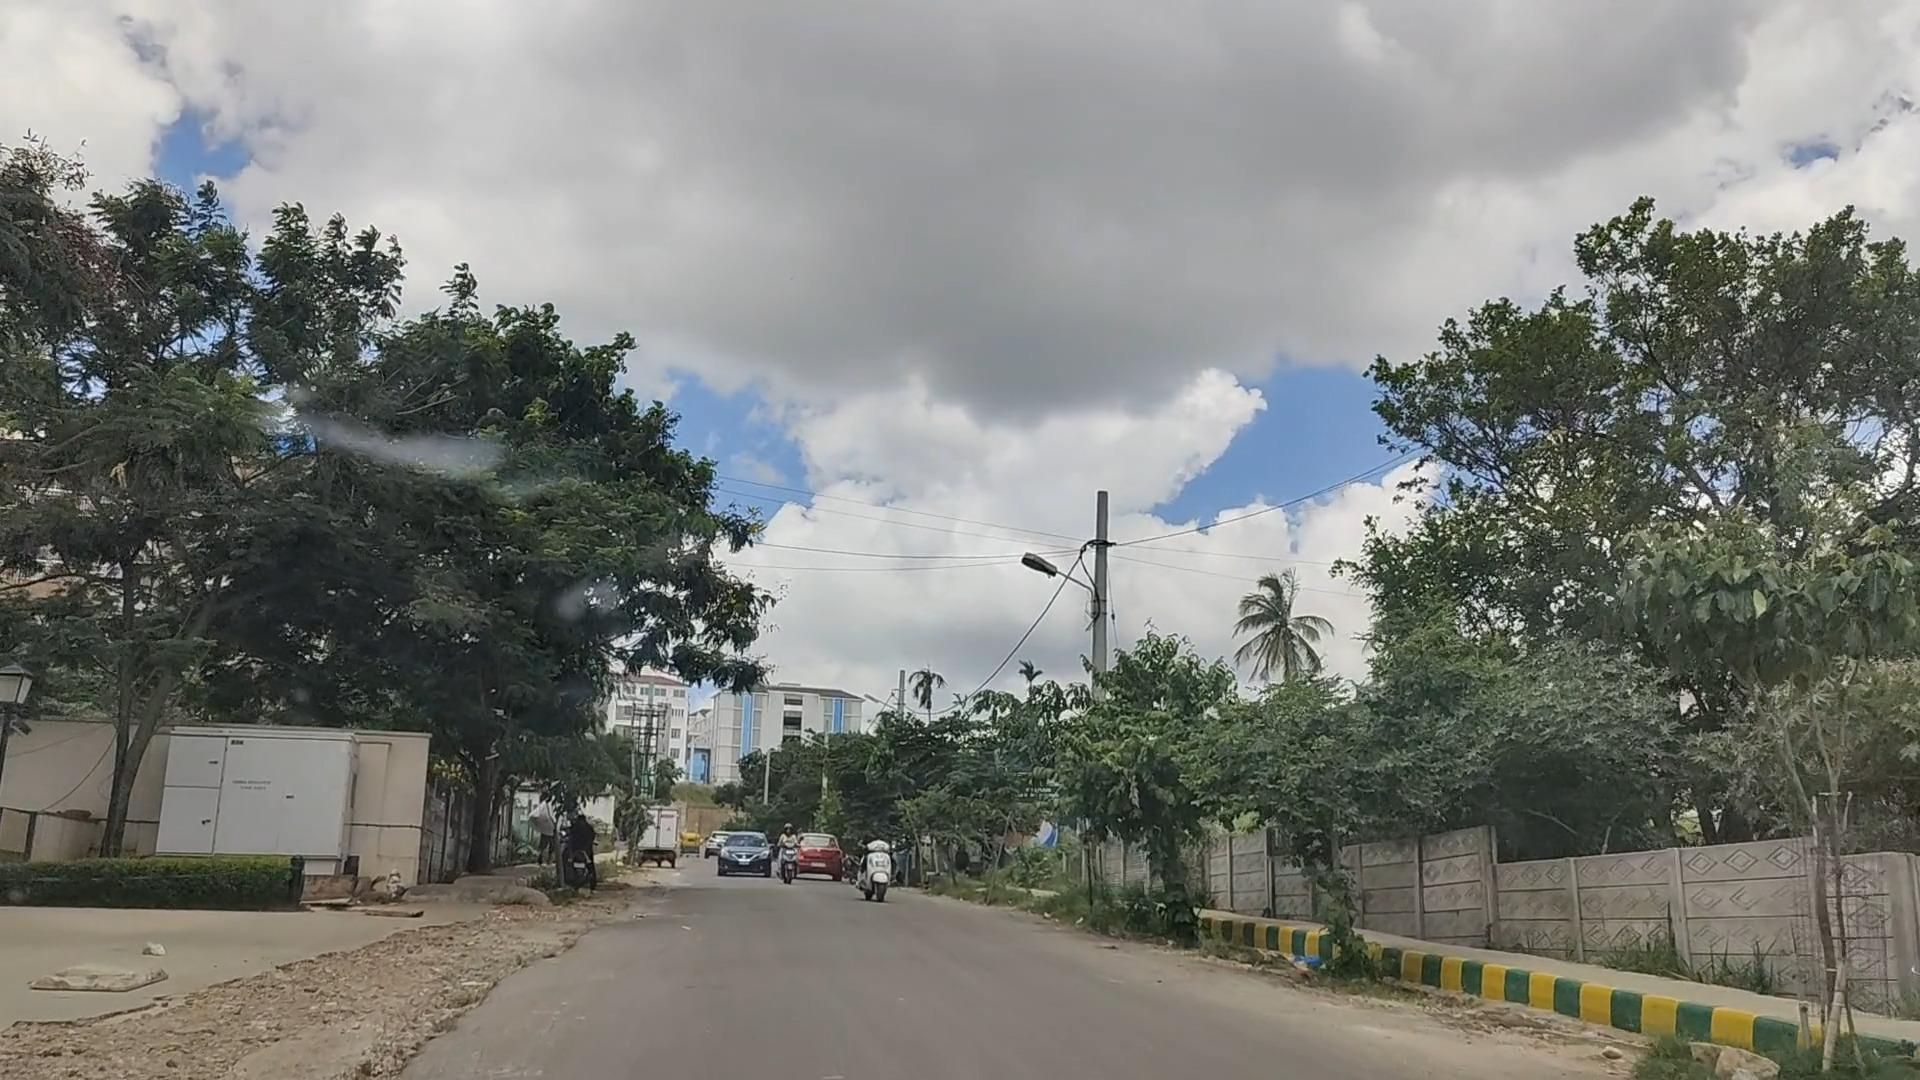RoadDamages: (14, 915, 643, 1080)
